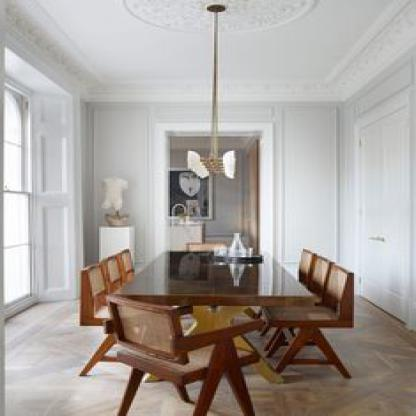table: (104, 241, 322, 415)
